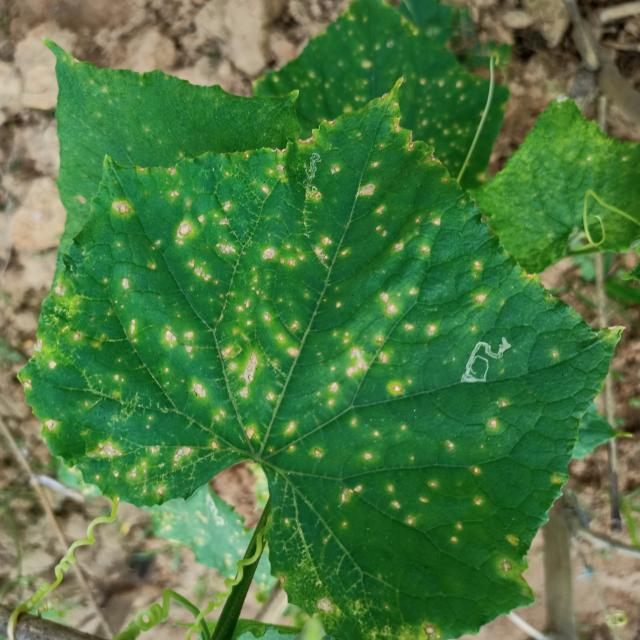disease_cucumber: (60, 123, 551, 613)
